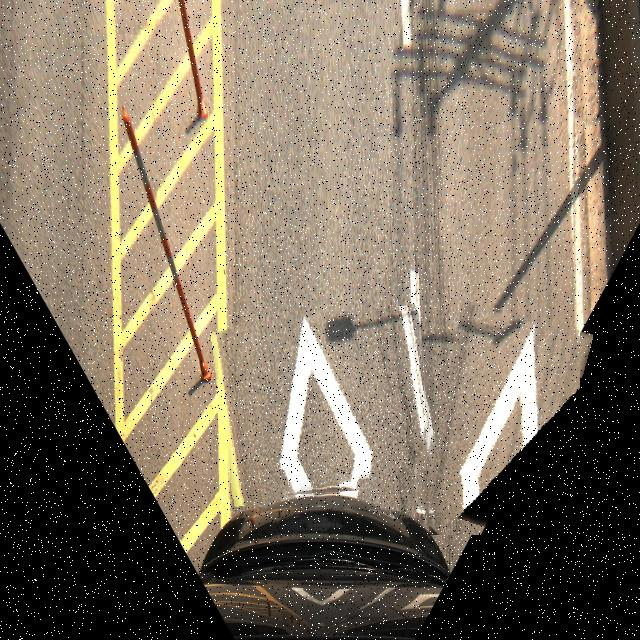diamond: (215, 311, 434, 500), (421, 307, 580, 535)
